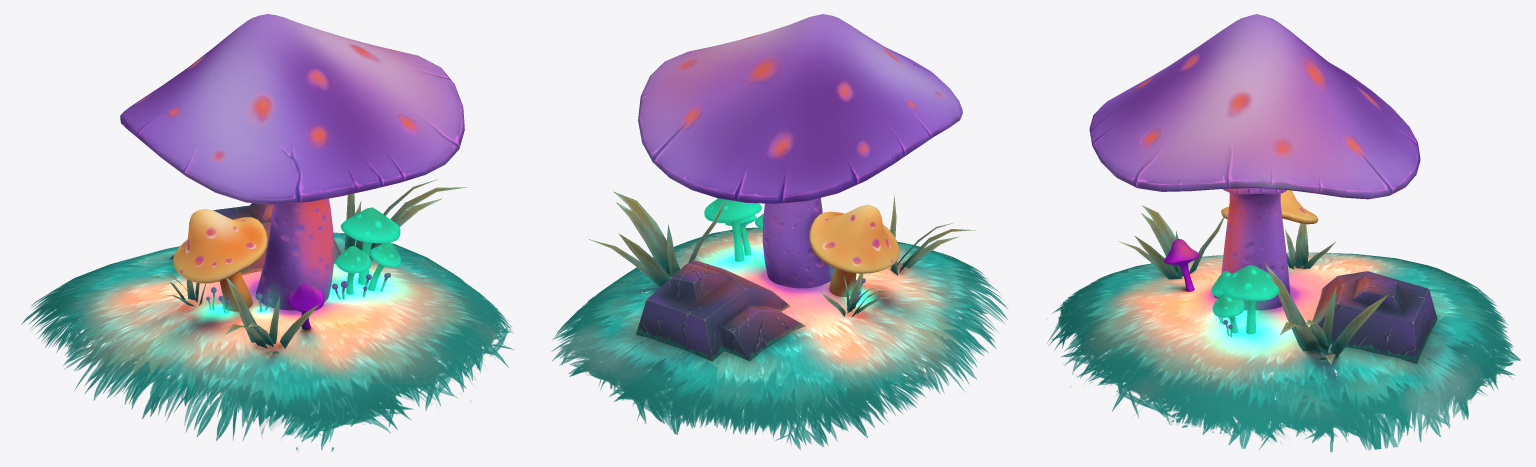
File: mogu.glb
3 views of the same model, side by side, from view 1: azimuth 30°, elevation 25°; view 2: azimuth 150°, elevation 25°; view 3: azimuth 270°, elevation 25° (orthographic). The views are drawn at different scales.
Parts seen in each view (by area): view 1: Plane, Circle, Circle.001, Circle.002, Plane.003, Plane.002, Circle.004, Circle.005, Cube.003, Circle.006; view 2: Plane, Circle, Cube.003, Circle.001, Plane.002, Cube.002, Circle.002, Plane.003, Plane.001; view 3: Plane, Circle, Cube.003, Plane.002, Circle.002, Plane.003, Cube.002, Plane.001, Circle.001, Circle.005, Circle.006.
Part boxes in pixels (bbox=[...]): Plane: bbox=[21, 232, 513, 451]; Circle: bbox=[120, 14, 464, 310]; Circle.001: bbox=[173, 209, 267, 311]; Circle.002: bbox=[340, 207, 400, 284]; Plane.003: bbox=[225, 278, 319, 360]; Plane.002: bbox=[344, 179, 469, 250]; Circle.004: bbox=[335, 246, 371, 294]; Circle.005: bbox=[287, 283, 324, 329]; Cube.003: bbox=[170, 205, 341, 275]; Circle.006: bbox=[368, 242, 400, 290]; Plane: bbox=[551, 227, 1008, 449]; Circle: bbox=[638, 14, 962, 288]; Cube.003: bbox=[636, 259, 805, 361]; Circle.001: bbox=[809, 204, 899, 296]; Plane.002: bbox=[588, 191, 725, 287]; Cube.002: bbox=[667, 263, 731, 304]; Circle.002: bbox=[704, 198, 761, 261]; Plane.003: bbox=[889, 195, 975, 275]; Plane.001: bbox=[821, 273, 892, 317]; Plane: bbox=[1046, 252, 1520, 452]; Circle: bbox=[1089, 14, 1420, 310]; Cube.003: bbox=[1309, 271, 1437, 363]; Plane.002: bbox=[1264, 262, 1388, 364]; Circle.002: bbox=[1221, 265, 1279, 334]; Plane.003: bbox=[1118, 205, 1224, 279]; Cube.002: bbox=[1352, 277, 1406, 312]; Plane.001: bbox=[1285, 223, 1335, 269]; Circle.001: bbox=[1221, 190, 1318, 224]; Circle.005: bbox=[1164, 238, 1199, 291]; Circle.006: bbox=[1212, 293, 1245, 333].
Bounding box in the file's own units: 4.99 × 4.17 × 5.4.
2 materials, 2 textured.
